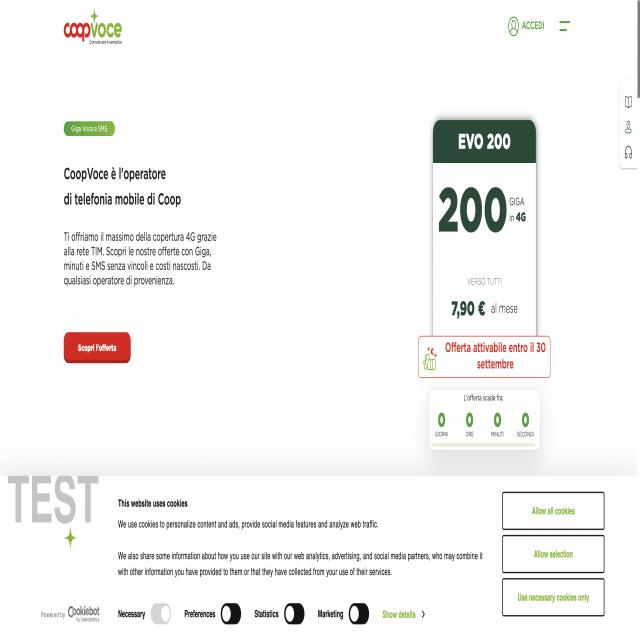Logo: (61, 5, 144, 60)
